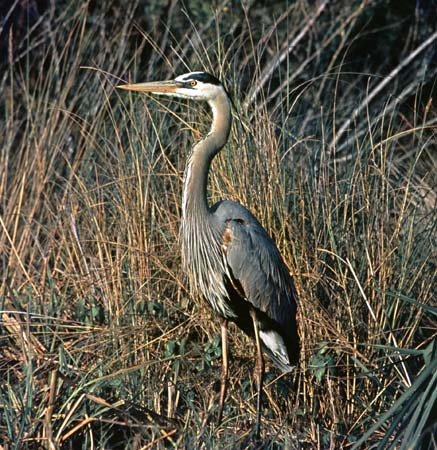heron: (113, 64, 302, 441)
